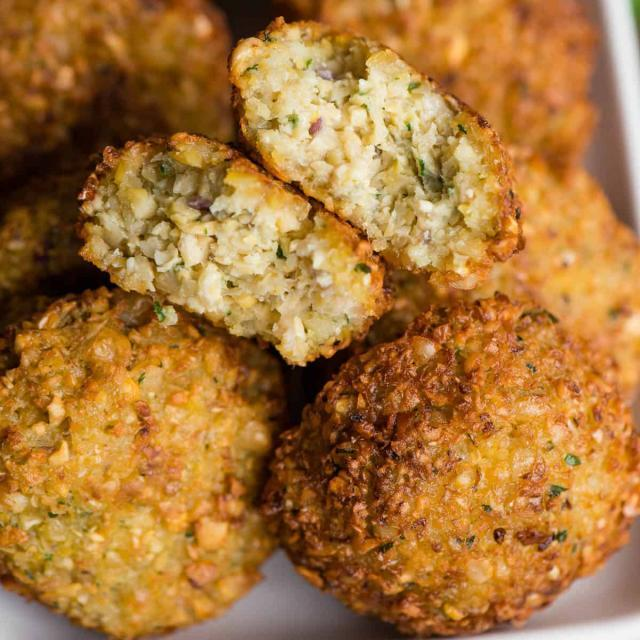flafel: (267, 296, 640, 622), (0, 288, 284, 620), (228, 23, 530, 275)
